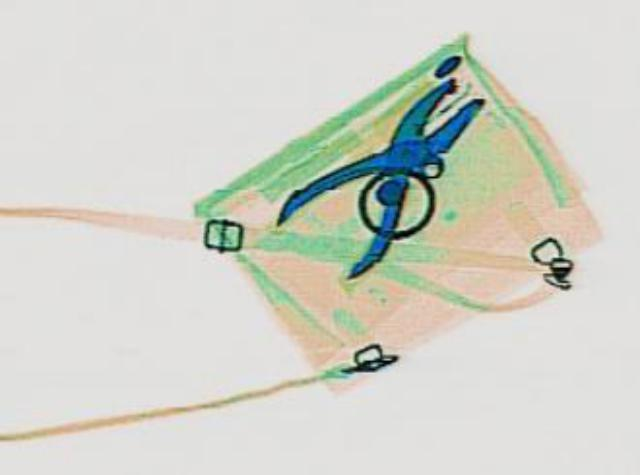Pliers: (245, 59, 523, 280)
